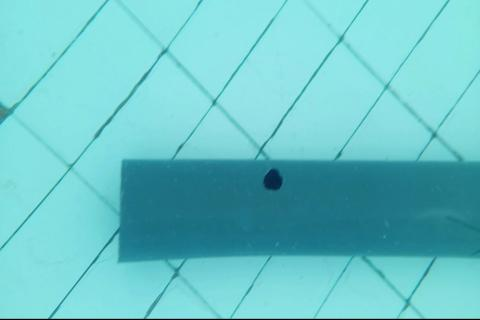kebocoran: (264, 167, 284, 192)
keretakan: (446, 214, 479, 235), (470, 247, 480, 255)
